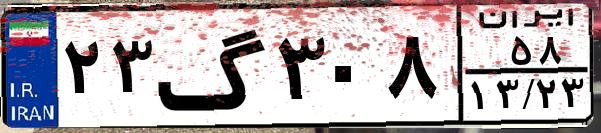0: (330, 28, 385, 110)
1: (470, 70, 495, 125)
2: (57, 26, 110, 100), (535, 70, 560, 125)
3: (270, 28, 330, 110), (110, 28, 156, 98), (560, 70, 590, 125), (495, 70, 520, 125)
5: (508, 27, 537, 80)
8: (385, 28, 445, 110), (537, 27, 568, 80)
گ: (156, 12, 270, 120)
